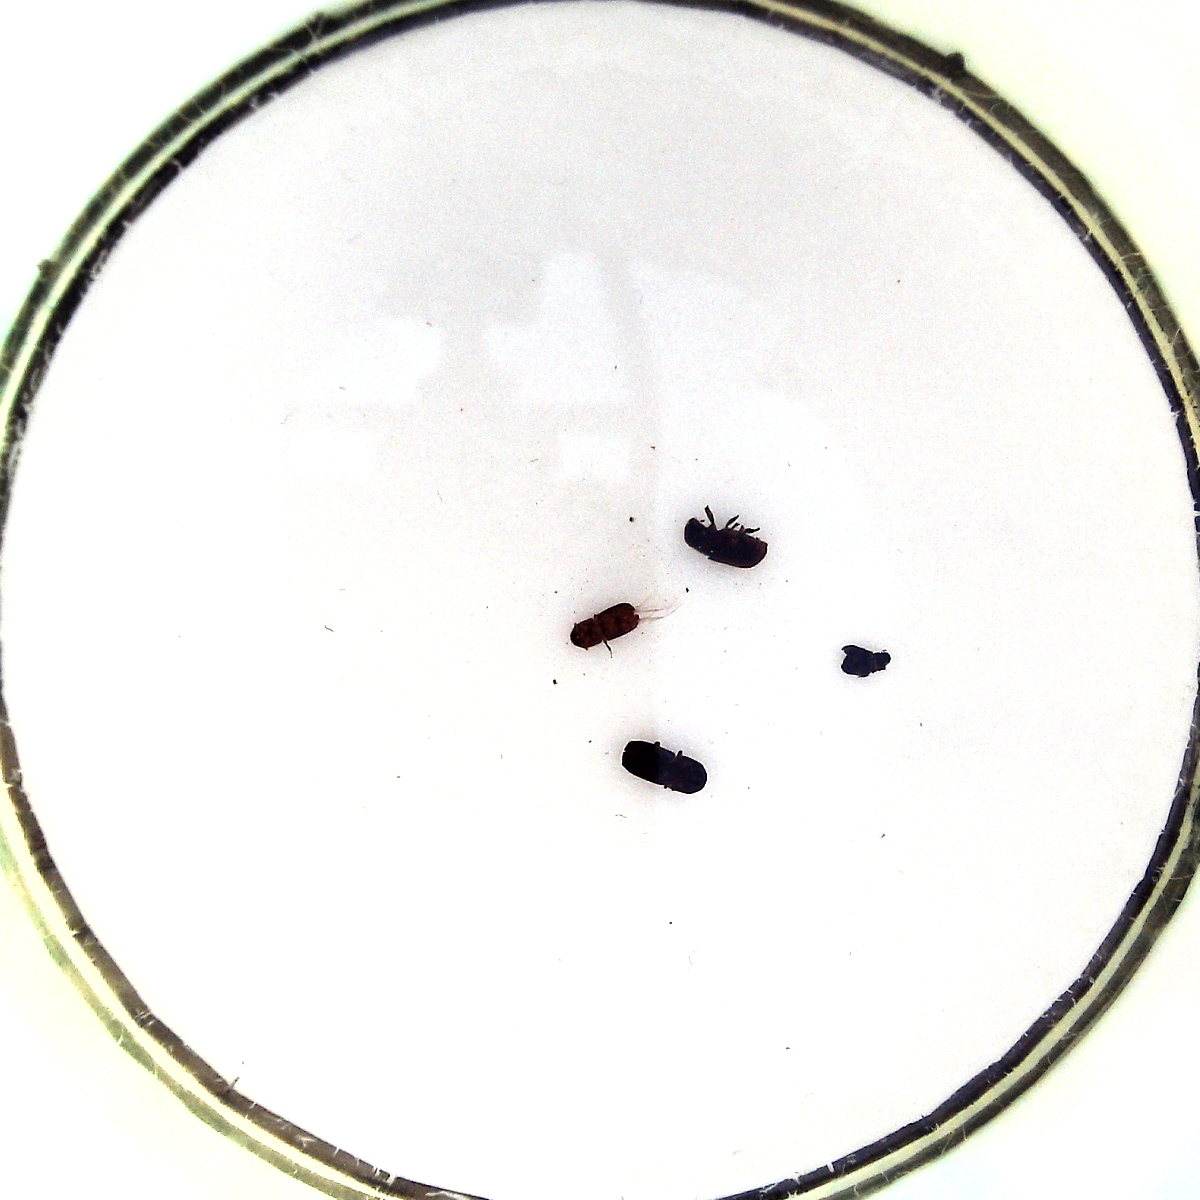Linnaeus: (620, 735, 712, 797)
acuminatus: (566, 599, 673, 653)
armandi: (681, 502, 771, 571)
coleoptera: (837, 635, 892, 681)
